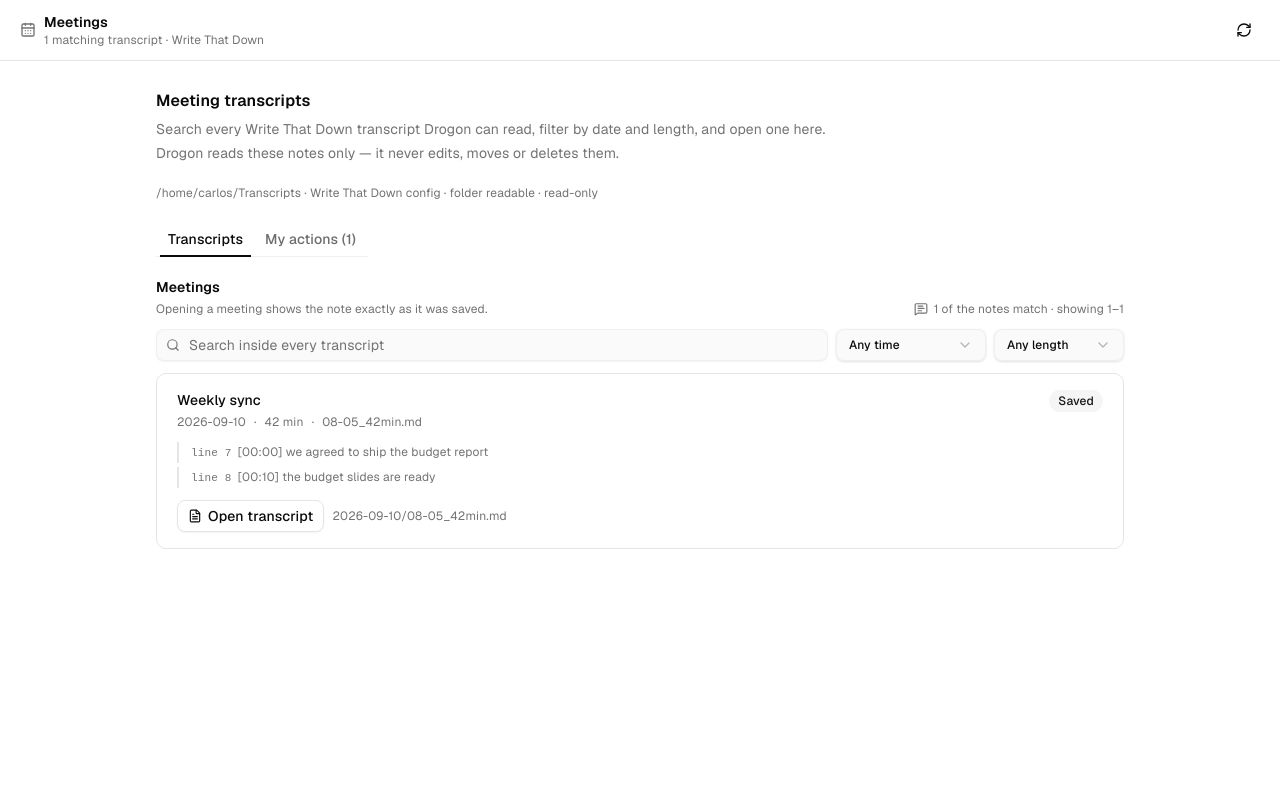
Meetings page list and reader › asks the daemon to search and filter instead of filtering one page
This screenshot has width=1280, height=800.
expect the heading "Weekly sync" is shown: met, box [177,391,261,409]
In the search field named "Search transcripts": (492, 345) [156,329,828,361], type "budget"
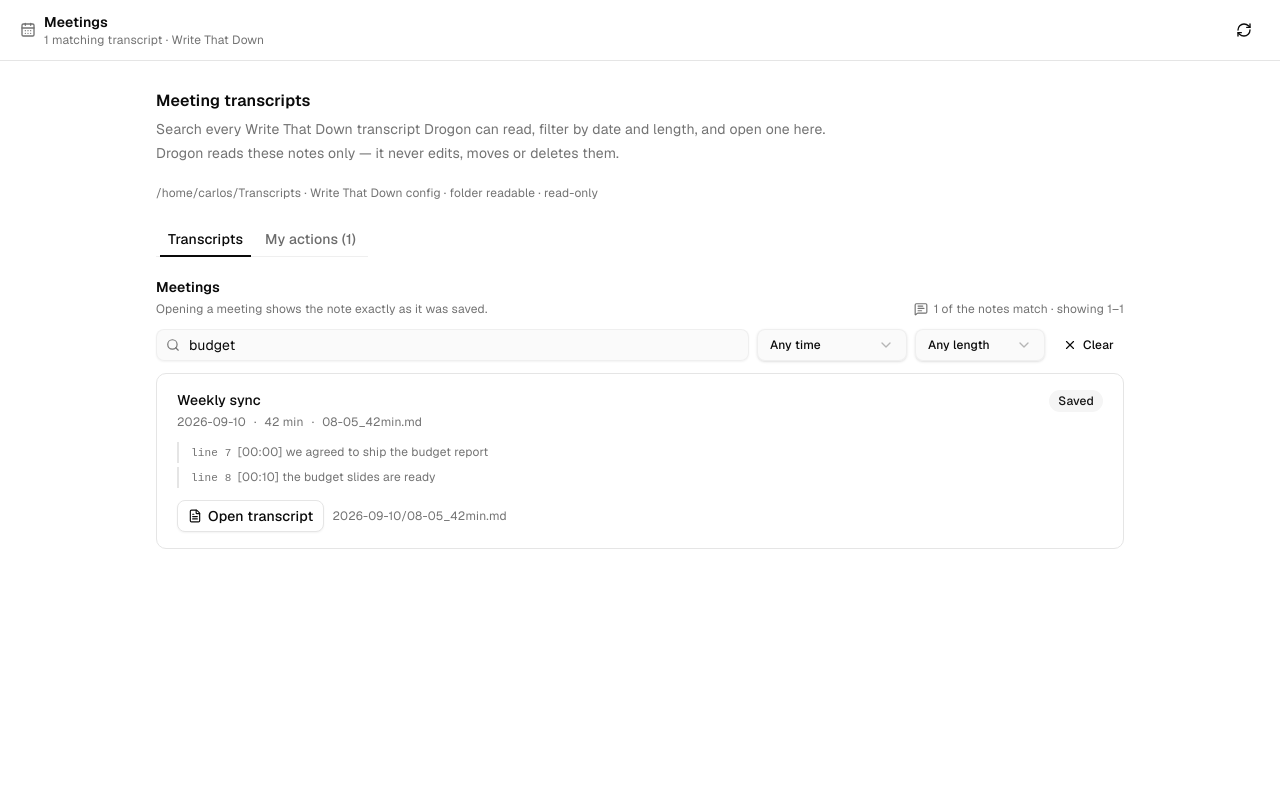
expect the list item "[00:00] we agreed to ship the budget report" is shown: met, box [238,444,488,460]
expect the text "line 7" is shown: met, box [191,447,232,459]
Click the dropdown named "Meeting duration": (980, 345) [915,329,1045,361]
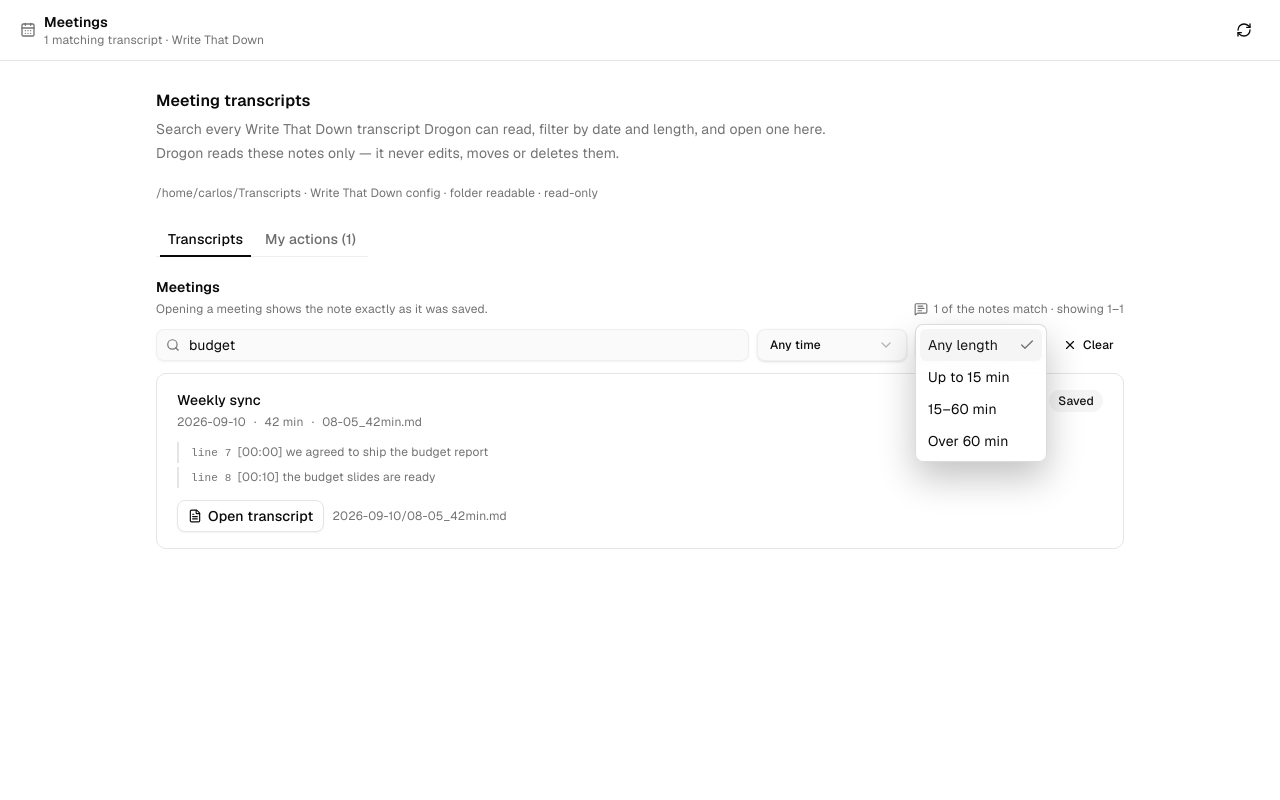
Click the option "Over 60 min": (968, 441) [928,432,1009,450]
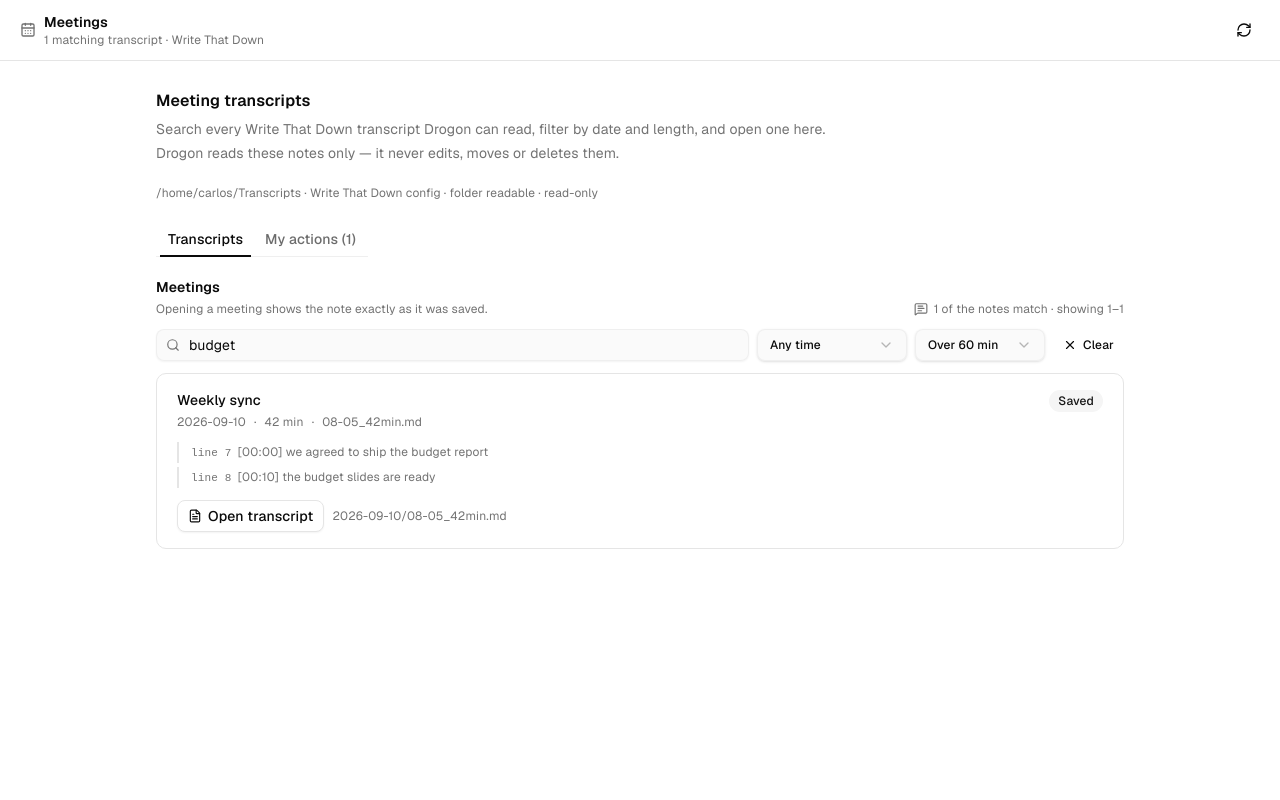
Replace the text in the search field named "Search transcripts" with "zzz": (453, 345) [156,329,749,361]
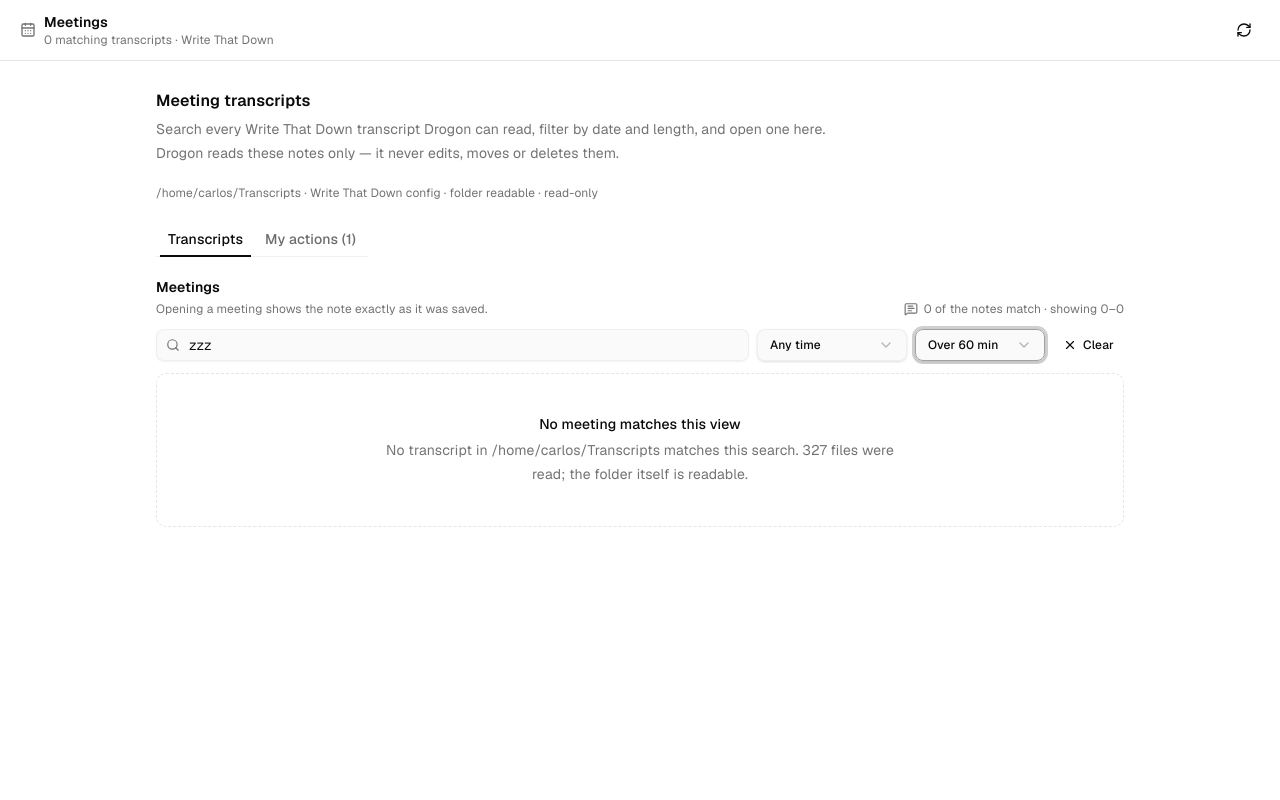
expect the text "No meeting matches this view" is shown: met, box [539,415,741,433]
